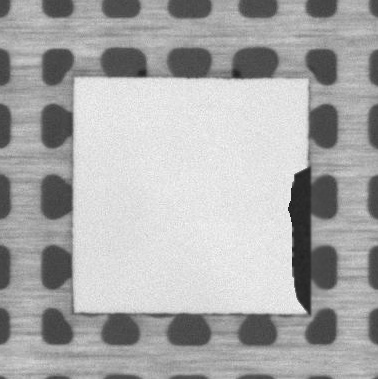DIE_BROKEN: (287, 165, 313, 313)
